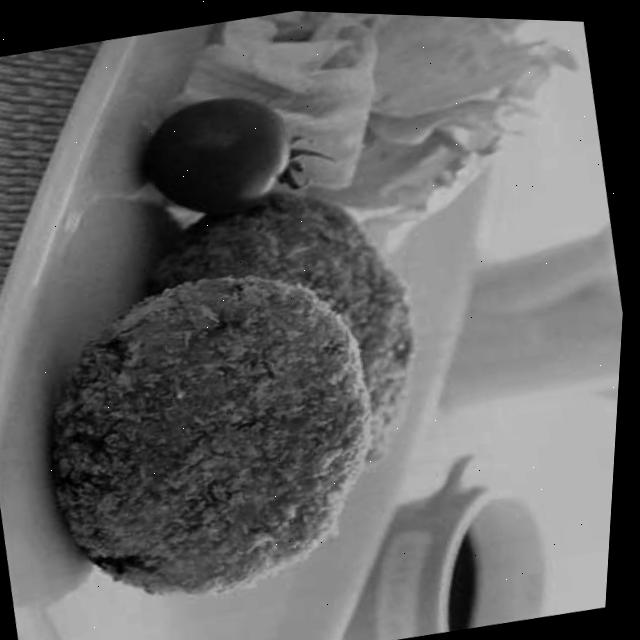炸货点心: (8, 170, 468, 620)
